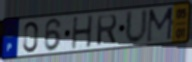0: (22, 20, 39, 54)
6: (44, 17, 63, 54)
H: (71, 14, 94, 51)
M: (145, 6, 176, 45)
R: (96, 14, 119, 47)
U: (124, 8, 150, 46)
